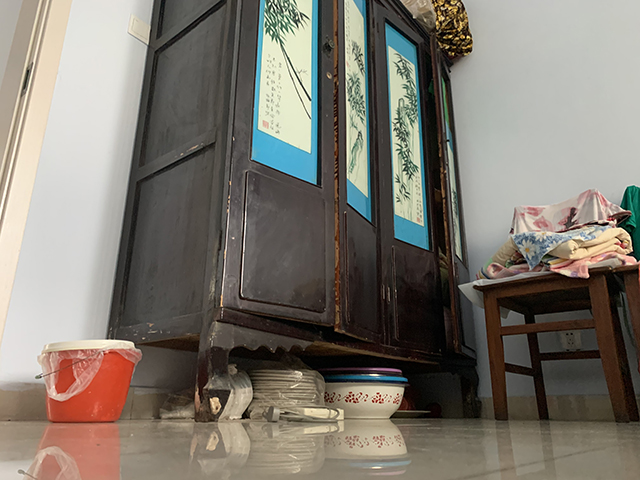cabinet: (105, 25, 451, 422)
stool: (472, 261, 640, 424)
